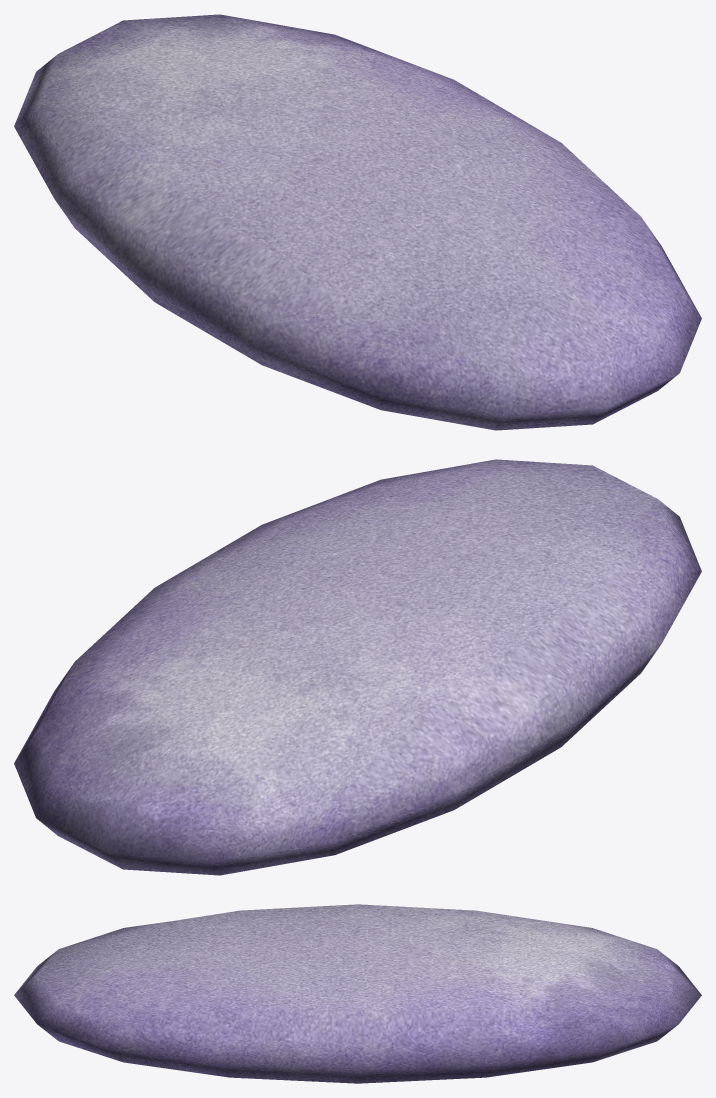
The model's file is rock_long.fbx.
3 renders of one model, top to bottom at view 1: azimuth 30°, elevation 25°; view 2: azimuth 150°, elevation 25°; view 3: azimuth 270°, elevation 25°, orthographic. The views are drawn at different scales.
Visible parts, largest first — view 1: Rk_Long_Lrg; view 2: Rk_Long_Lrg; view 3: Rk_Long_Lrg.
Part boxes in pixels (x1,y1,x2,y2): Rk_Long_Lrg: [14, 14, 701, 430]; Rk_Long_Lrg: [14, 459, 701, 875]; Rk_Long_Lrg: [14, 904, 701, 1083].
Bounding box in the file's own units: 1.4 × 0.3947 × 2.8.
